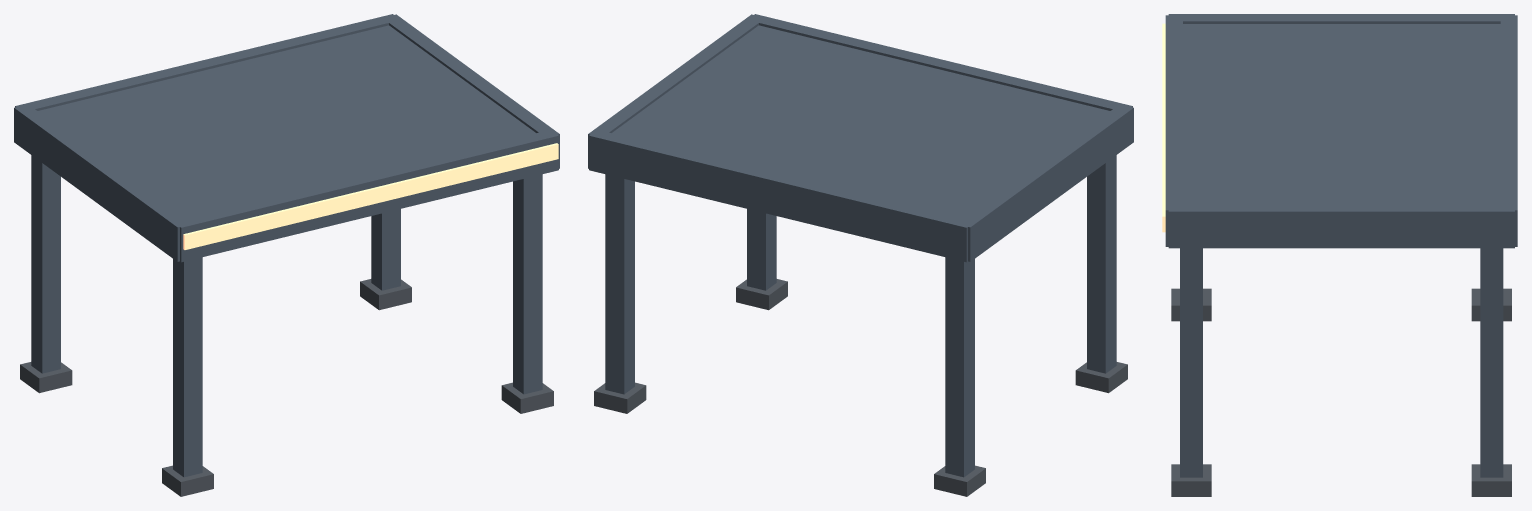
File: Lab_Platform_A.fbx
The picture shows the model from 3 angles, left to right: view 1: azimuth 30°, elevation 25°; view 2: azimuth 150°, elevation 25°; view 3: azimuth 270°, elevation 25°; orthographic projection. The views are drawn at different scales.
Visible parts, largest first — view 1: Lab_Platform_Deck; view 2: Lab_Platform_Deck; view 3: Lab_Platform_Deck.
Boxes of the visible parts, box(x1,y1,x2,y2) form: Lab_Platform_Deck: box(14, 14, 559, 496); Lab_Platform_Deck: box(588, 14, 1133, 496); Lab_Platform_Deck: box(1162, 14, 1517, 496).
Bounding box in the file's own units: 4.05 × 2.78 × 3.08.
